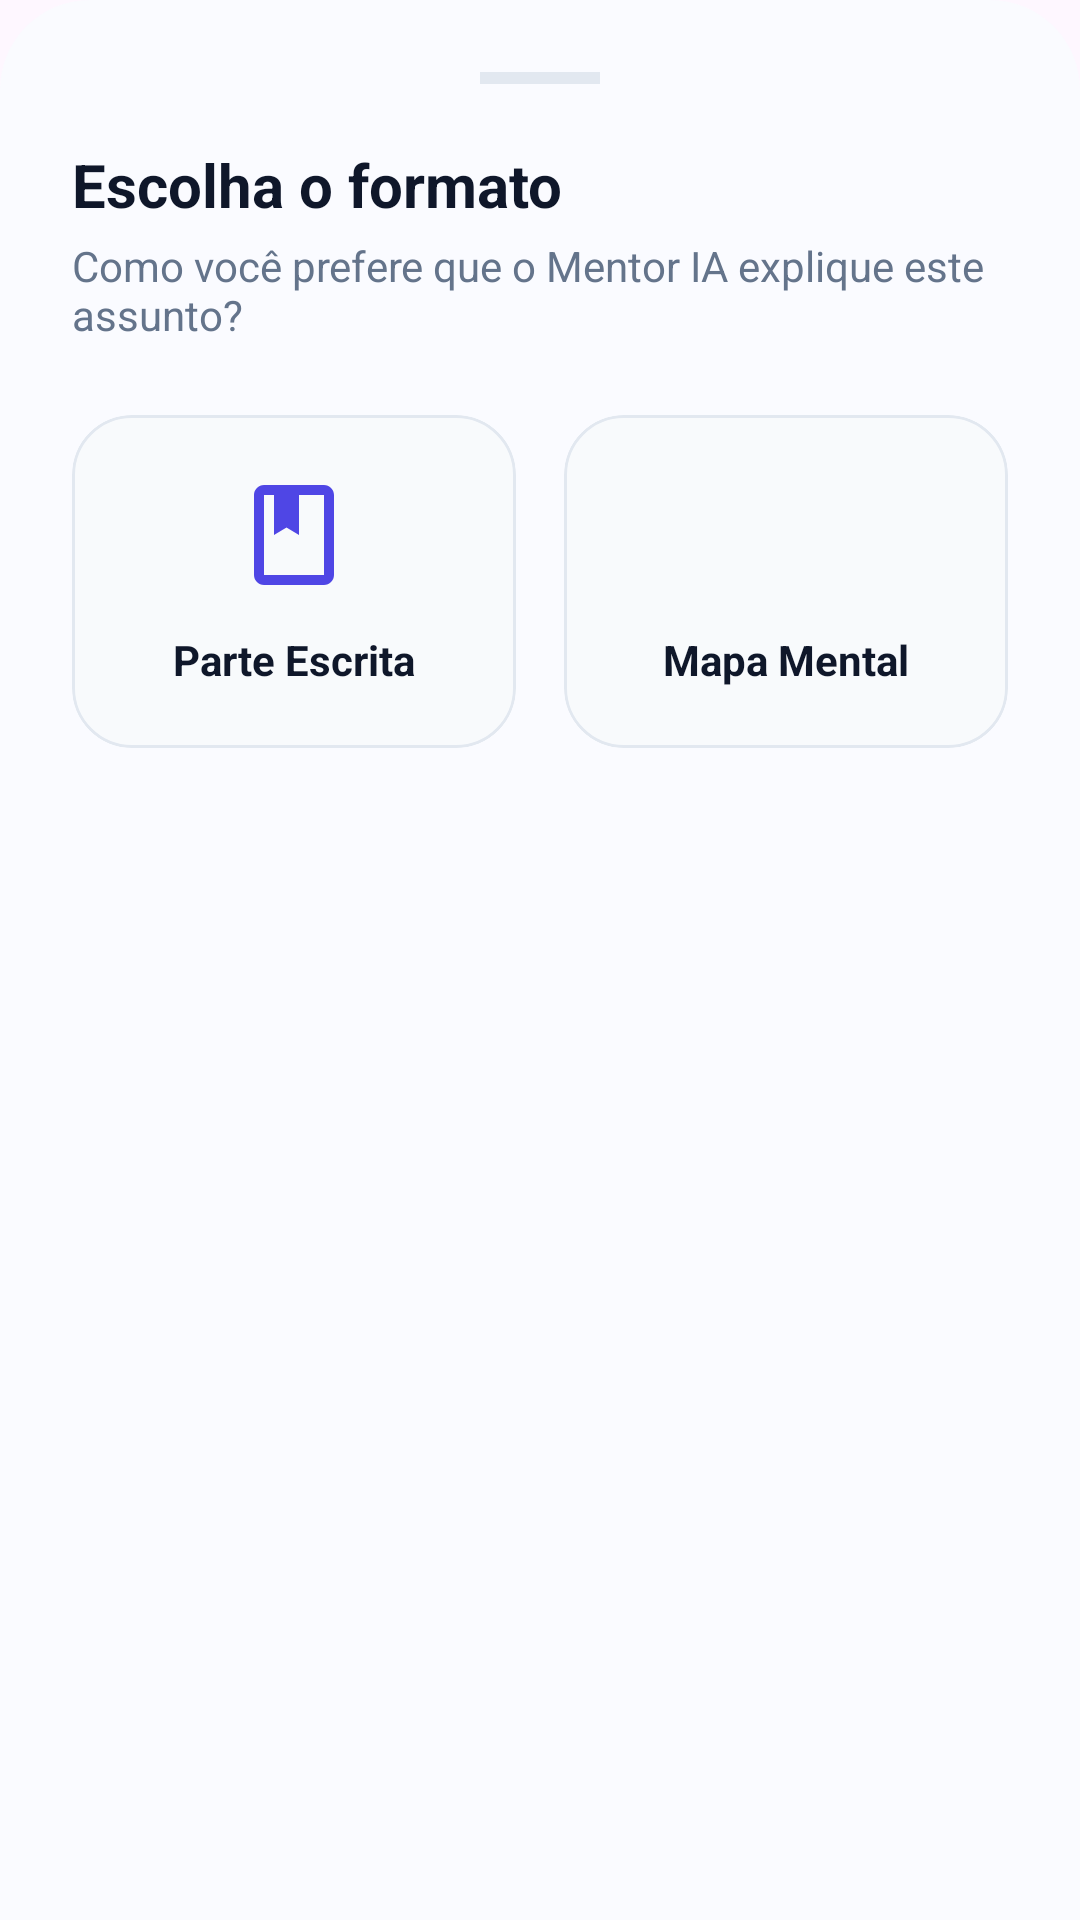

Screen size 1080 × 1920. Icon name, then its center in pixels as (x=x, y=y):
book: (x=294, y=535)
